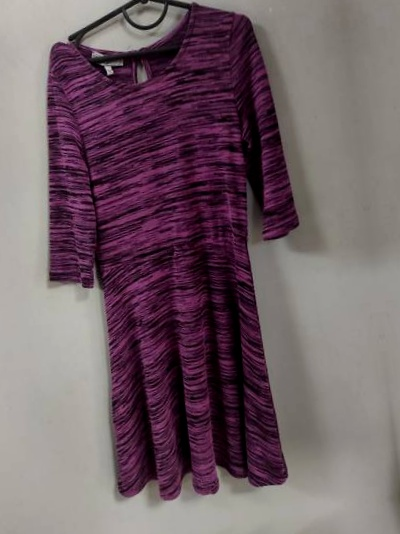Dress: (1, 0, 355, 525), (384, 0, 400, 479), (64, 517, 400, 534)
